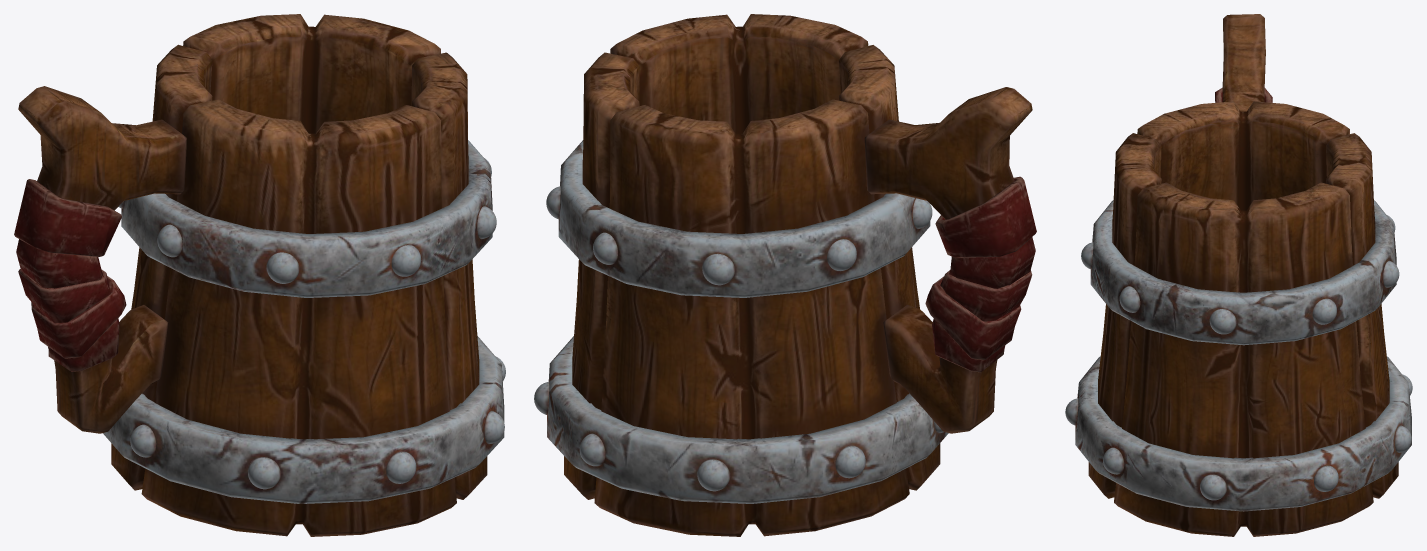
Rendered from mug.glb.
The picture shows the model from 3 angles, left to right: view 1: azimuth 30°, elevation 25°; view 2: azimuth 150°, elevation 25°; view 3: azimuth 270°, elevation 25°; orthographic projection. The views are drawn at different scales.
Visible parts, largest first — view 1: Object_2; view 2: Object_2; view 3: Object_2.
Part boxes in pixels (x1,y1,x2,y2): Object_2: (14, 14, 505, 536); Object_2: (534, 14, 1036, 536); Object_2: (1065, 14, 1412, 536).
Bounding box in the file's own units: 31.32 × 28.22 × 24.8.
Materials: 1 (1 with a texture image).
